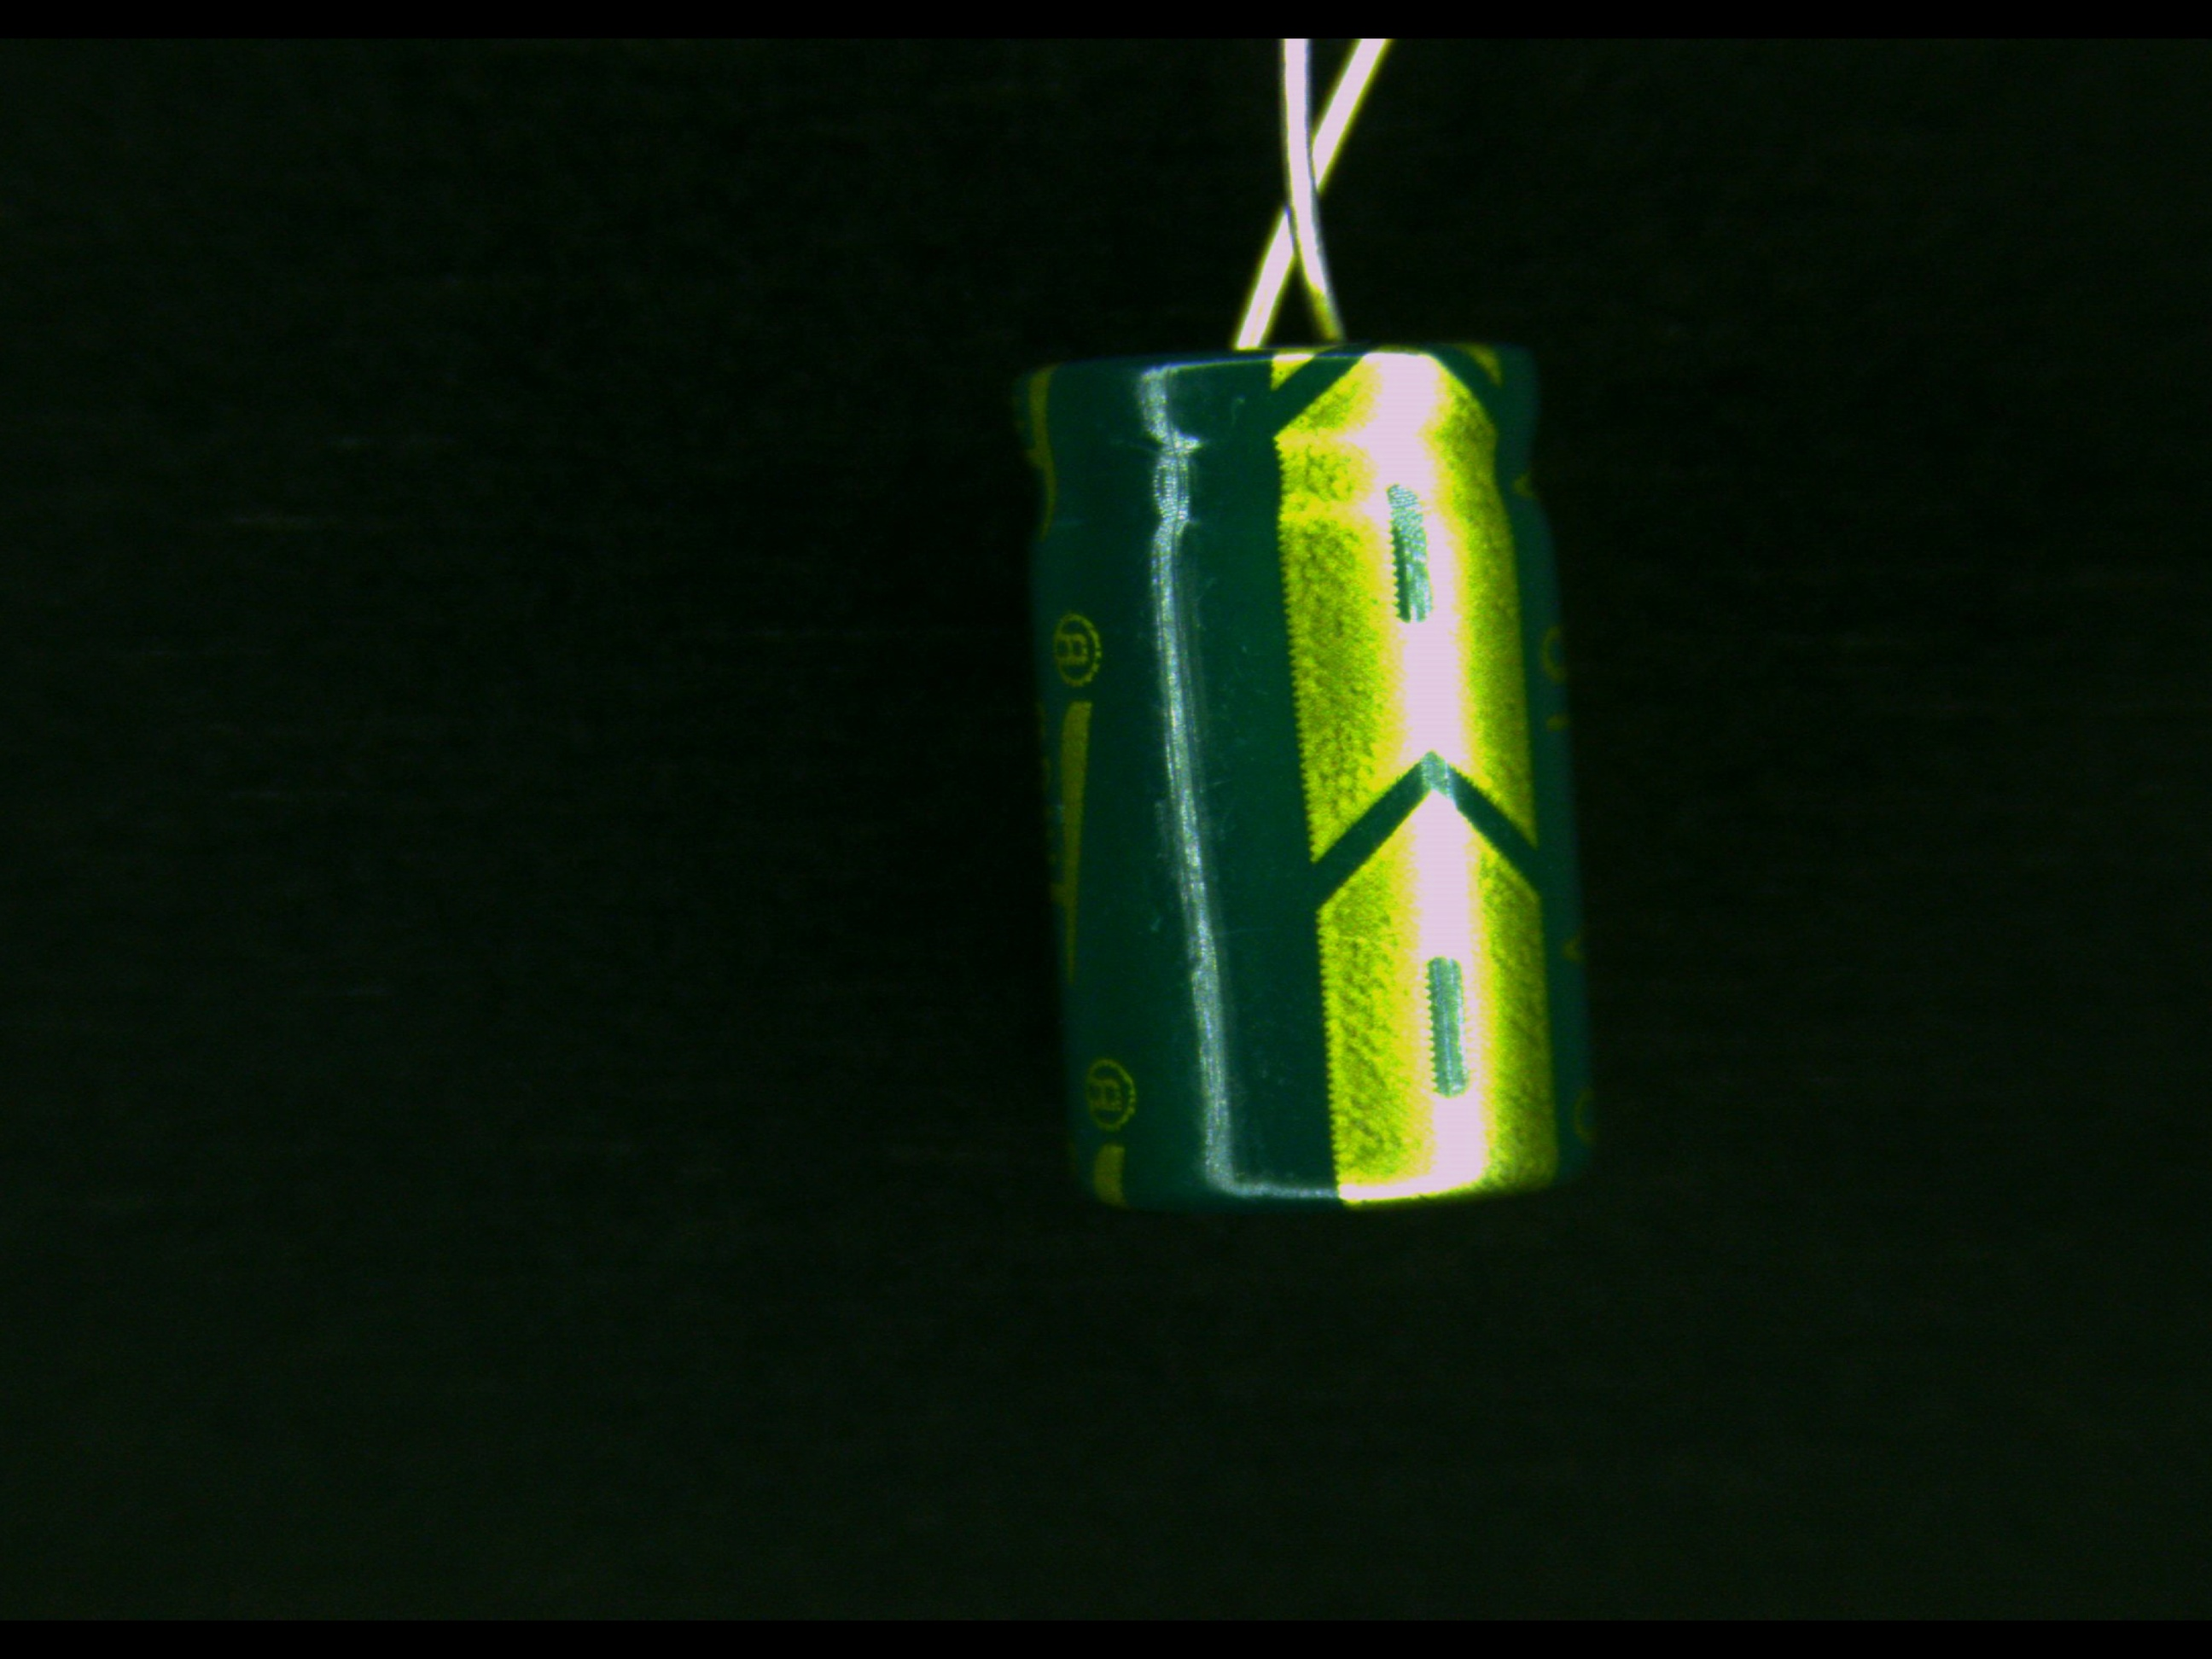c1: (1008, 256, 1601, 1213)
